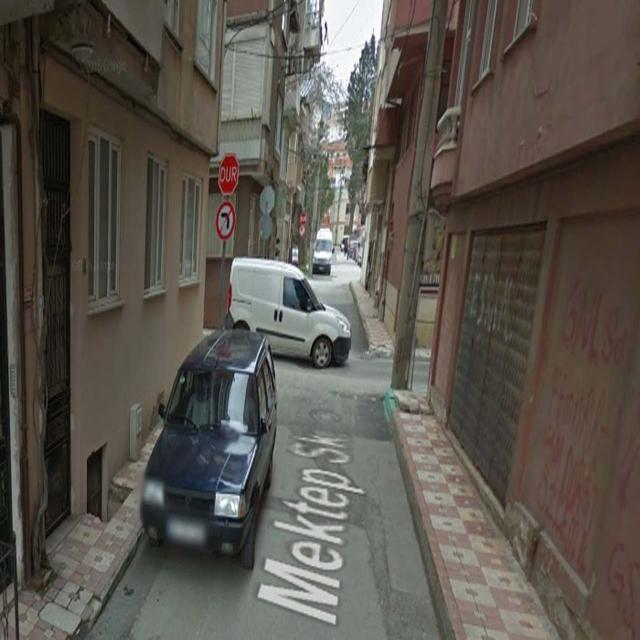dur: (218, 155, 240, 195)
soladonulmez: (216, 201, 234, 241)
